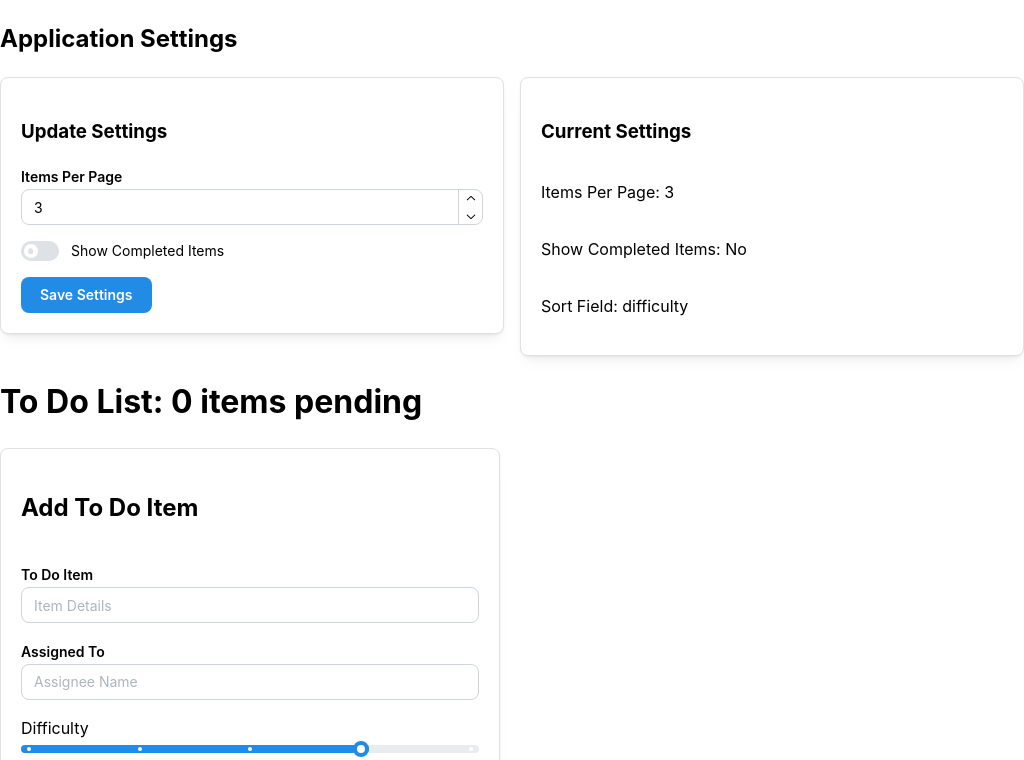
Test case: Settings Component Tests › allows users to show and hide completed tasks
Type "Wash Car" into the field labelled "To Do Item".
click(250, 605); type("Wash Car")  # box [21,587,479,623]
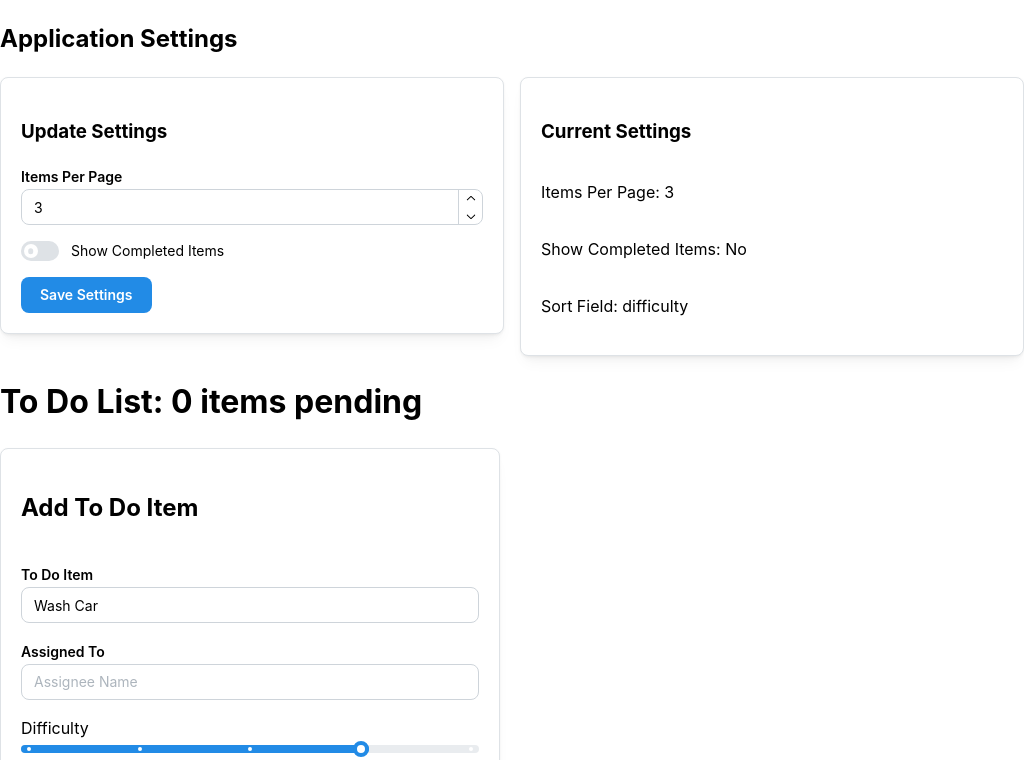
Type "OS" into the field labelled "Assigned To".
click(250, 682); type("OS")  # box [21,664,479,700]
(page scrolled)
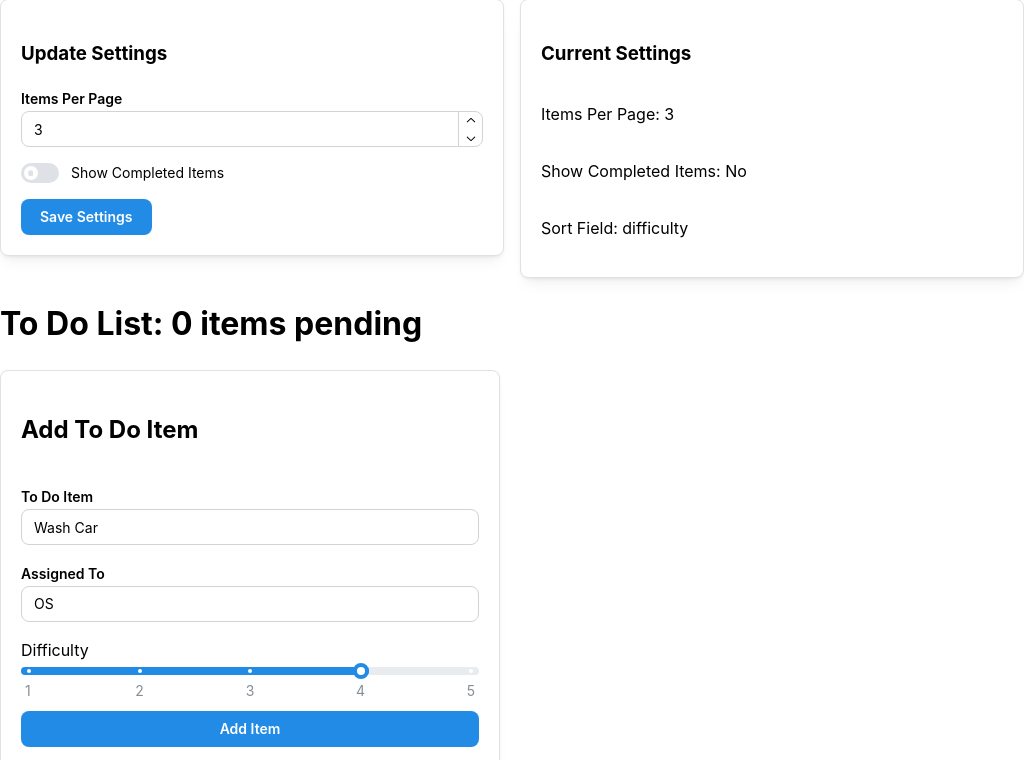
Click the button "Add Item".
click(250, 729)  # box [21,711,479,747]
(page scrolled)
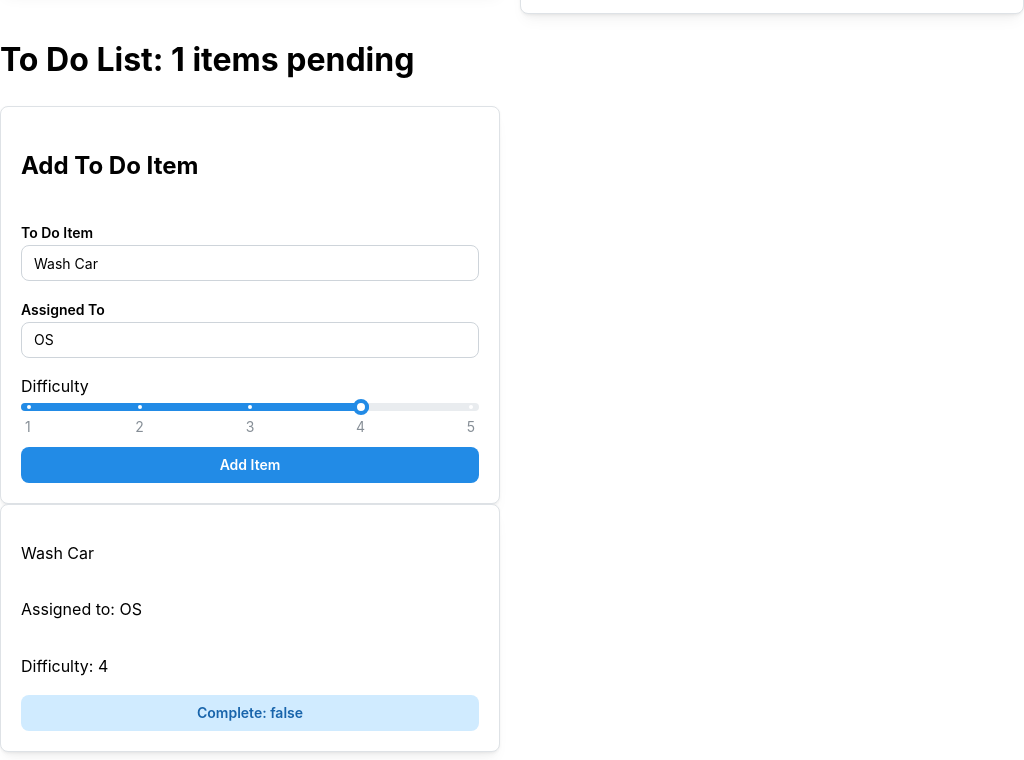
Check: the text "Wash Car" is shown, box [21,543,94,563]
Click the button "Complete: false".
click(250, 713)  # box [21,695,479,731]
(page scrolled)
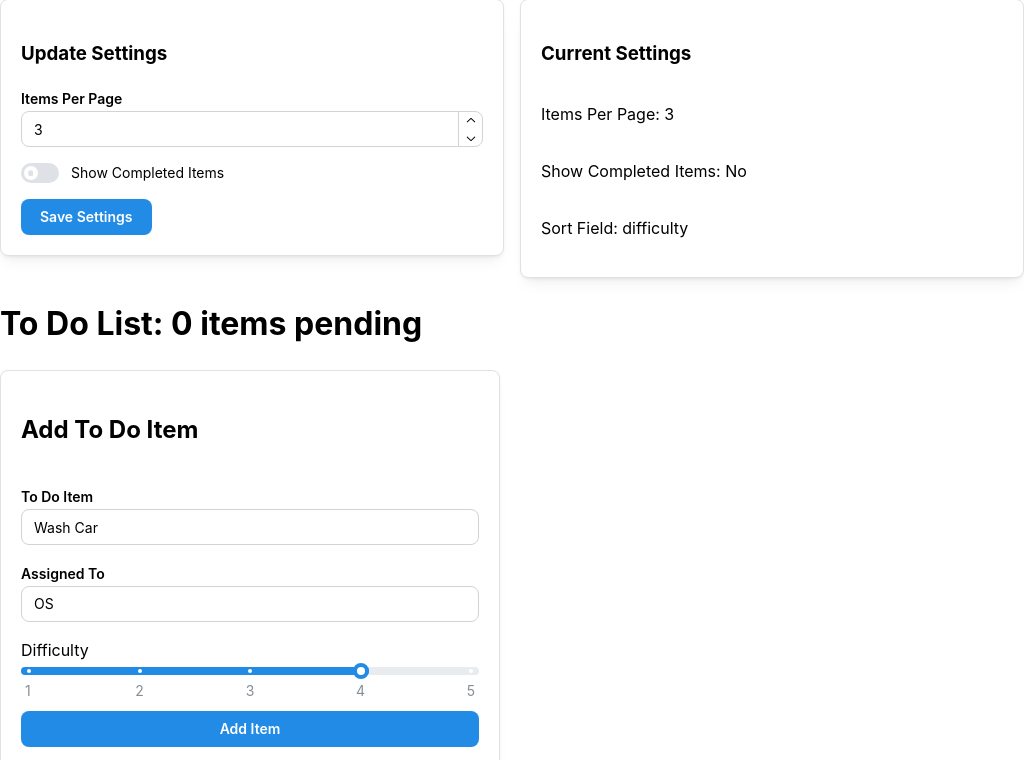
Click the switch labelled "Show Completed Items".
click(123, 173)  # box [21,163,224,183]
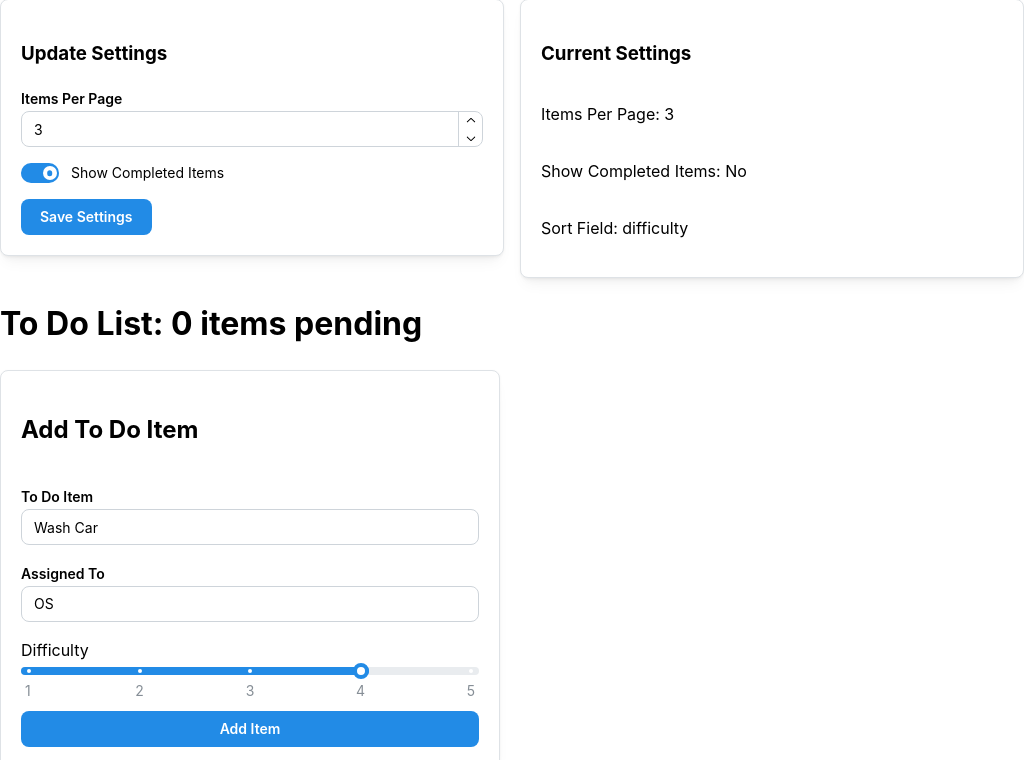
Click the button "Save Settings".
click(86, 217)  # box [21,199,152,235]
(page scrolled)
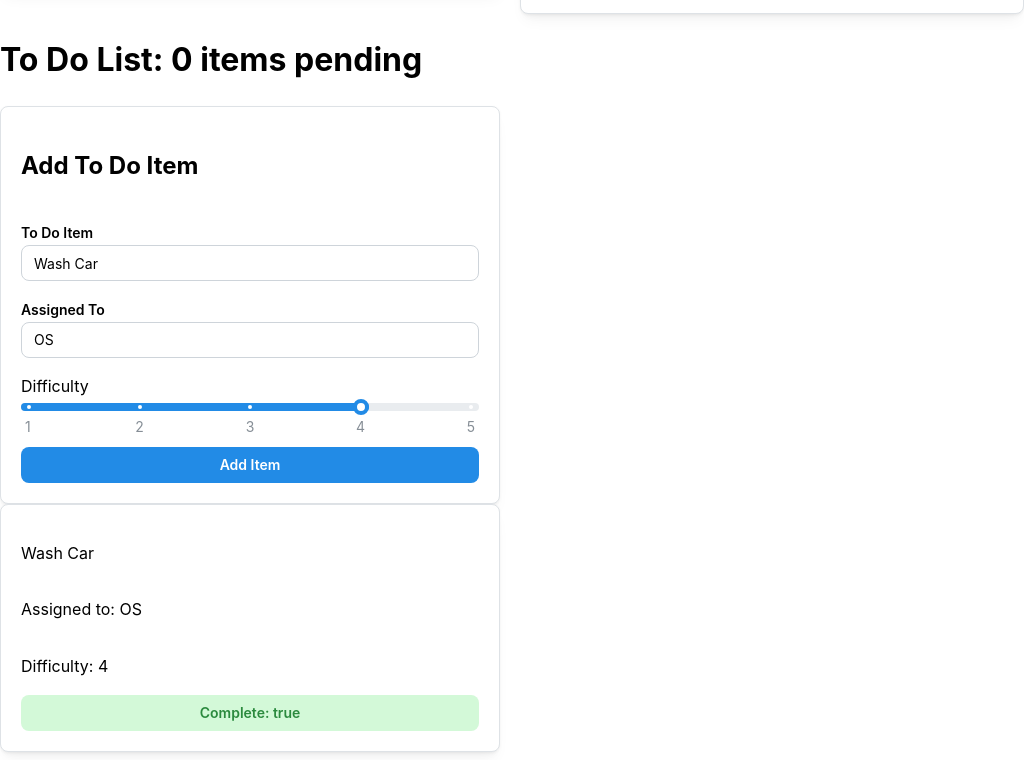
Check: the text "Wash Car" is shown, box [21,543,94,563]
Check: the button "Complete: true" is shown, box [21,695,479,731]
